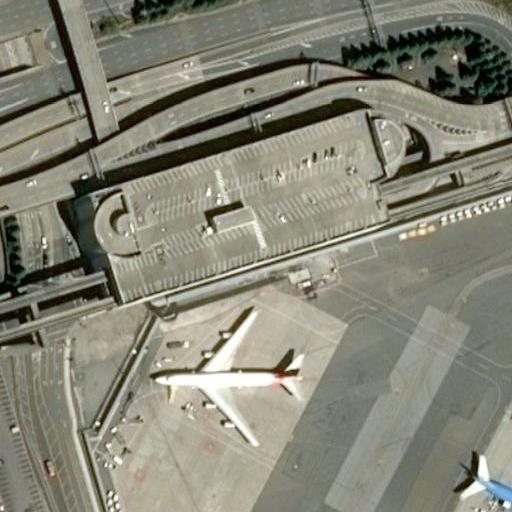Aircraft: (146, 299, 305, 445), (448, 431, 512, 512)
